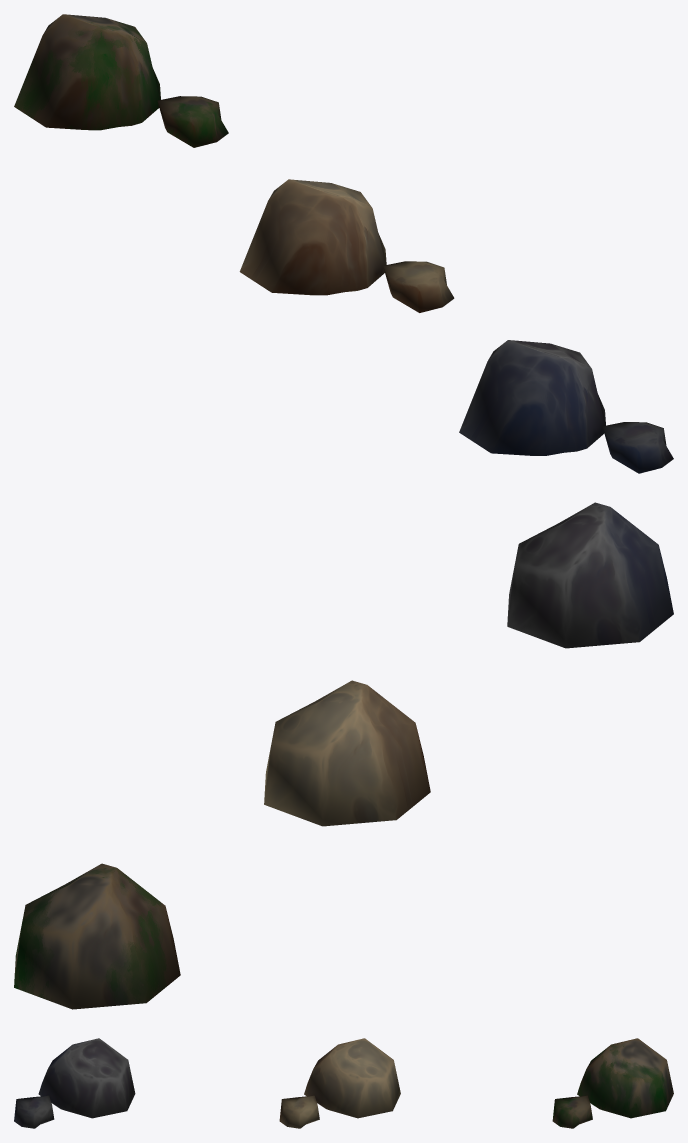
Rendered from stylized_small_rocks_3_versions.glb.
3 views of the same model, one above another, from view 1: azimuth 30°, elevation 25°; view 2: azimuth 150°, elevation 25°; view 3: azimuth 270°, elevation 25° (orthographic). The views are drawn at different scales.
Visible parts, largest first — view 1: Object_4, Object_3, Object_2; view 2: Object_3, Object_4, Object_2; view 3: Object_2, Object_4, Object_3.
Part boxes in pixels (x1,y1,x2,y2): Object_4: [239, 179, 454, 312]; Object_3: [14, 14, 228, 147]; Object_2: [459, 340, 673, 473]; Object_3: [14, 863, 180, 1009]; Object_4: [264, 680, 430, 826]; Object_2: [507, 502, 673, 648]; Object_2: [14, 1038, 135, 1128]; Object_4: [279, 1038, 400, 1128]; Object_3: [552, 1038, 673, 1128].
Size of the model in its own units: 1.54 by 1.02 by 9.91.
Materials: 3 (3 with a texture image).
